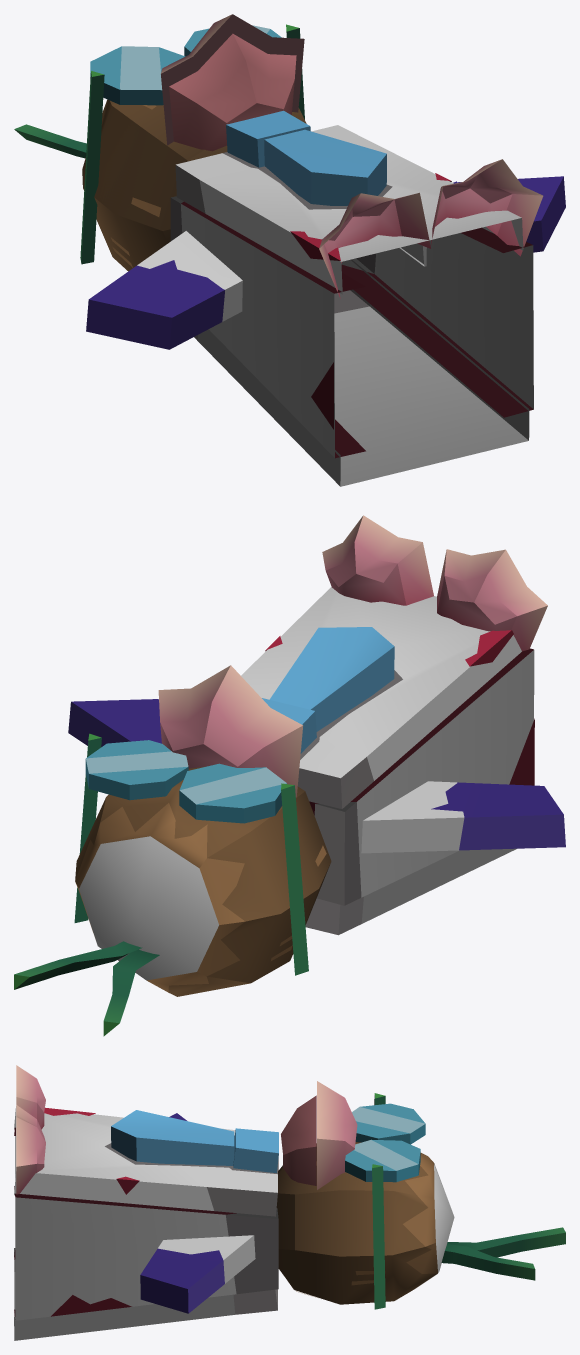
Rendered from garyPeaceOffering.fbx.
The picture shows the model from 3 angles, top to bottom: view 1: azimuth 30°, elevation 25°; view 2: azimuth 150°, elevation 25°; view 3: azimuth 270°, elevation 25°; orthographic projection. The views are drawn at different scales.
Visible parts, largest first — view 1: garyPeaceOffering; view 2: garyPeaceOffering; view 3: garyPeaceOffering.
Part boxes in pixels (box(x1,y1,x2,y2)): garyPeaceOffering: box(14, 14, 565, 486); garyPeaceOffering: box(14, 515, 565, 1036); garyPeaceOffering: box(14, 1065, 565, 1340).
Size of the model in its own units: 60.17 by 35.6 by 78.88.
